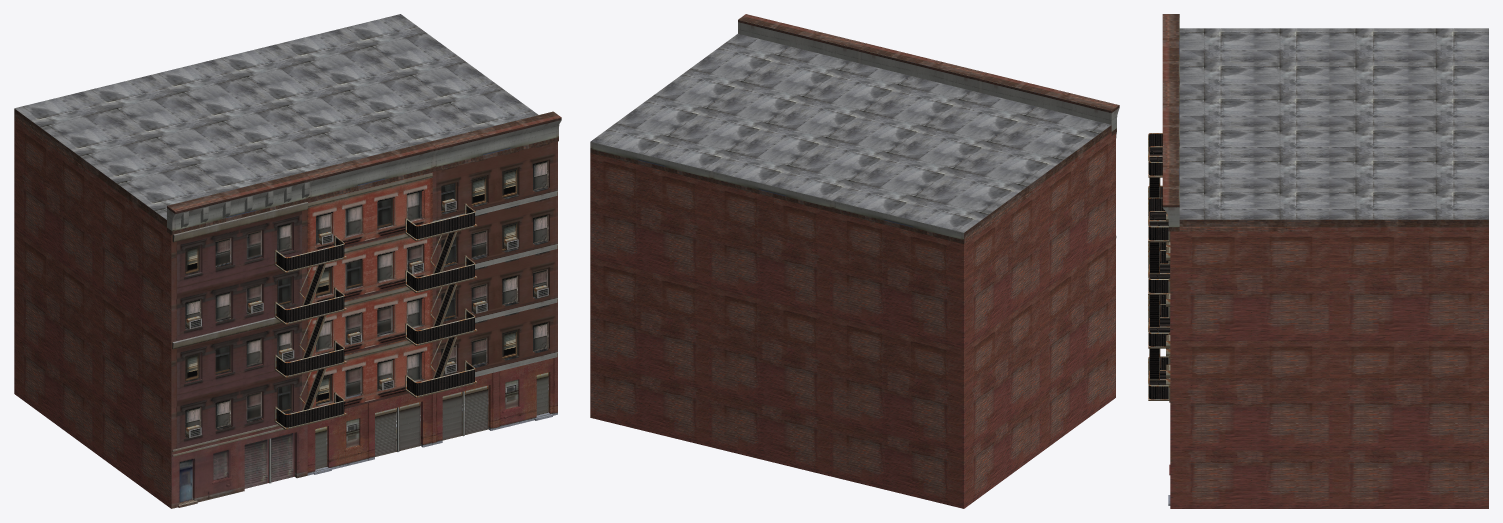
Rendered from Building4.glb.
3 renders of one model, left to right at view 1: azimuth 30°, elevation 25°; view 2: azimuth 150°, elevation 25°; view 3: azimuth 270°, elevation 25°, orthographic. The views are drawn at different scales.
Visible parts, largest first — view 1: Brownstone_FlatFacade_2_Brownstone_Facade_Flr_3_0; view 2: Brownstone_FlatFacade_2_Brownstone_Facade_Flr_3_0; view 3: Brownstone_FlatFacade_2_Brownstone_Facade_Flr_3_0.
Part boxes in pixels (x1=…): Brownstone_FlatFacade_2_Brownstone_Facade_Flr_3_0: x1=14, y1=14, x2=561, y2=508; Brownstone_FlatFacade_2_Brownstone_Facade_Flr_3_0: x1=590, y1=14, x2=1119, y2=508; Brownstone_FlatFacade_2_Brownstone_Facade_Flr_3_0: x1=1148, y1=14, x2=1488, y2=508.
Size of the model in its own units: 28.39 by 21.04 by 21.4.
Materials: 3 (3 with a texture image).
